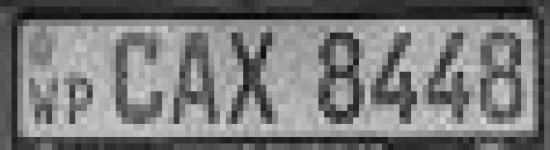4: (370, 27, 426, 128), (428, 25, 478, 125)
8: (312, 28, 370, 128), (478, 26, 530, 126)
A: (172, 26, 222, 130)
C: (111, 22, 167, 129)
P: (60, 67, 99, 127)
W: (26, 72, 60, 128)
X: (223, 26, 293, 134)
